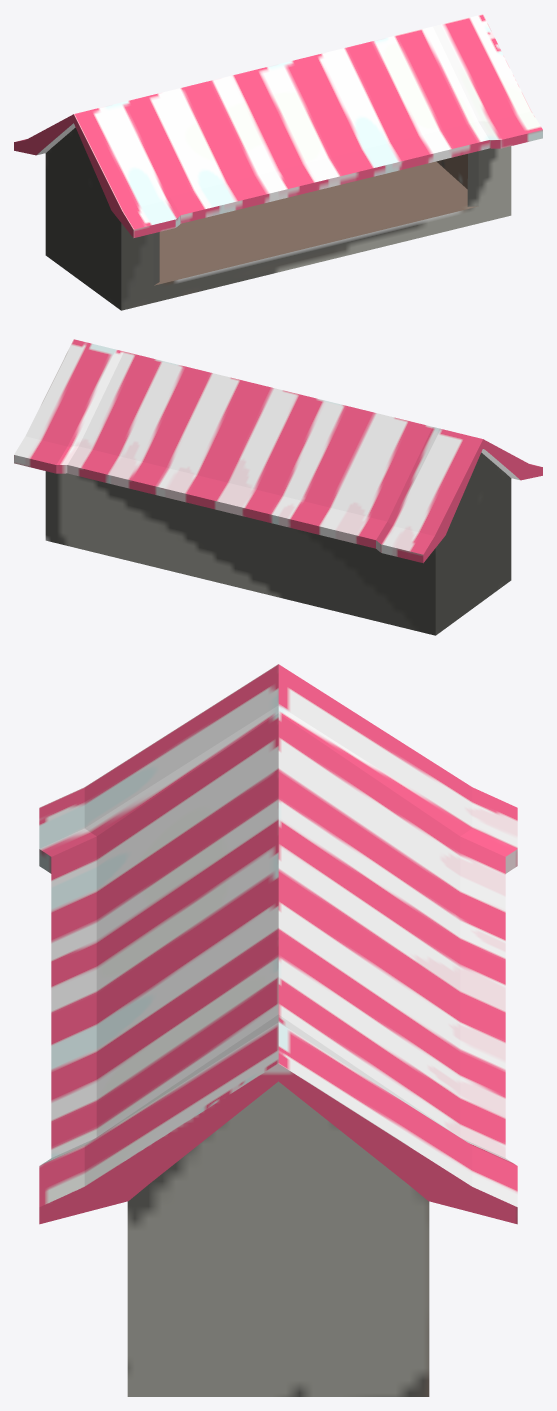
Rendered from Range.fbx.
3 renders of one model, top to bottom at view 1: azimuth 30°, elevation 25°; view 2: azimuth 150°, elevation 25°; view 3: azimuth 270°, elevation 25°, orthographic. The views are drawn at different scales.
Parts seen in each view (by area): view 1: ShootingRange.001, ShootingRange; view 2: ShootingRange.001, ShootingRange; view 3: ShootingRange.001, ShootingRange.
Part boxes in pixels (box(x1,y1,x2,y2)): ShootingRange.001: box(14, 14, 542, 238); ShootingRange: box(45, 127, 511, 310); ShootingRange.001: box(14, 339, 542, 563); ShootingRange: box(45, 452, 511, 635); ShootingRange.001: box(39, 664, 517, 1224); ShootingRange: box(127, 1081, 429, 1396).
Size of the model in its own units: 5010 by 2004 by 2534.
